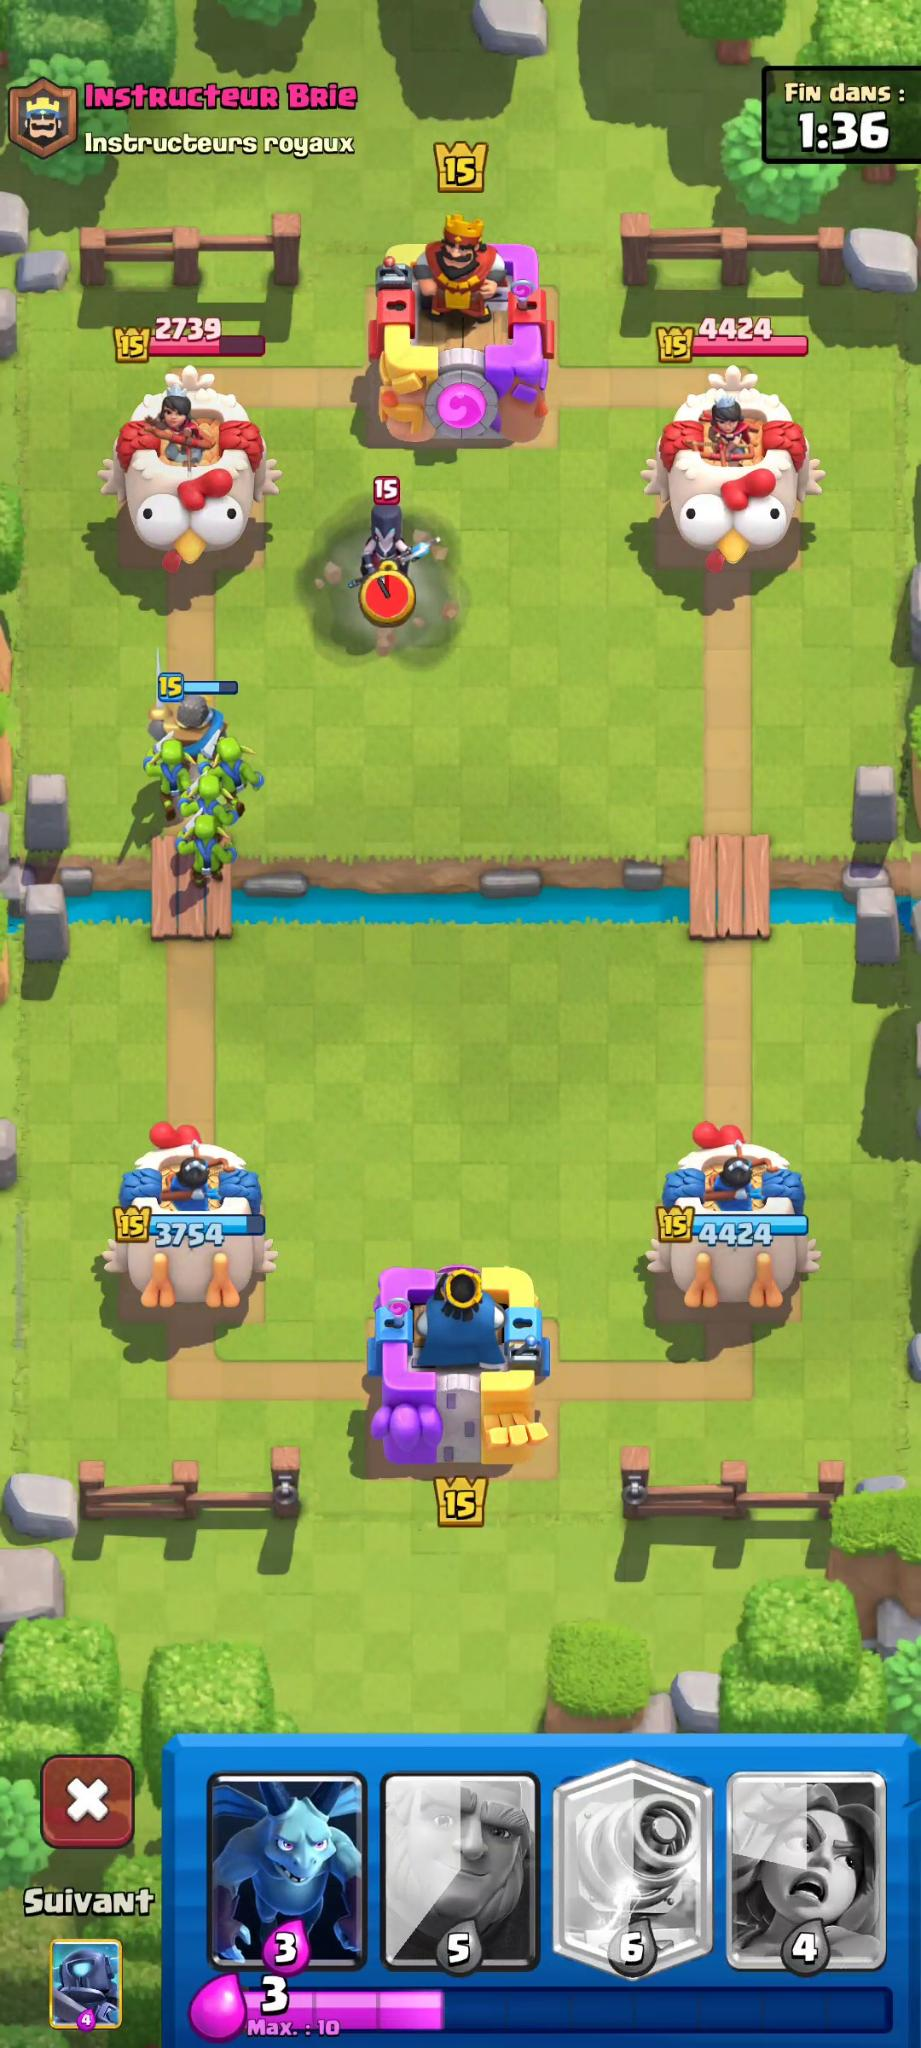chevalier: (140, 673, 240, 772)
gobelin: (169, 814, 247, 892), (142, 728, 196, 822), (187, 771, 243, 850), (209, 734, 256, 802)
